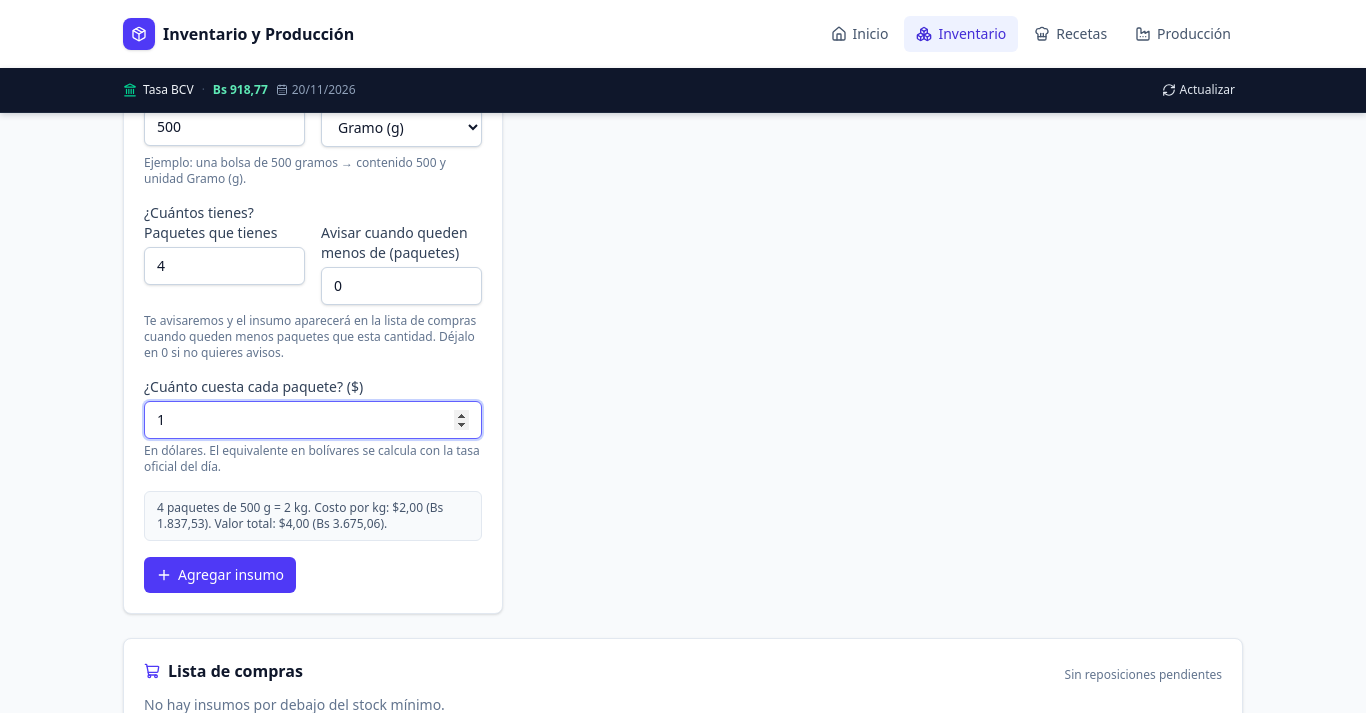
Test: flujo de inventario › crea, edita y elimina insumos por paquete
Earlier steps of the test are not shown.
Later steps or results of the test are not shown.
(page scrolled)
Check: the text "4 paquetes de 500 g = 2 kg" is shown, box [157,499,443,532]
Click the button "Agregar insumo". click: (220, 575)
box: [144,557,296,593]
(page scrolled)
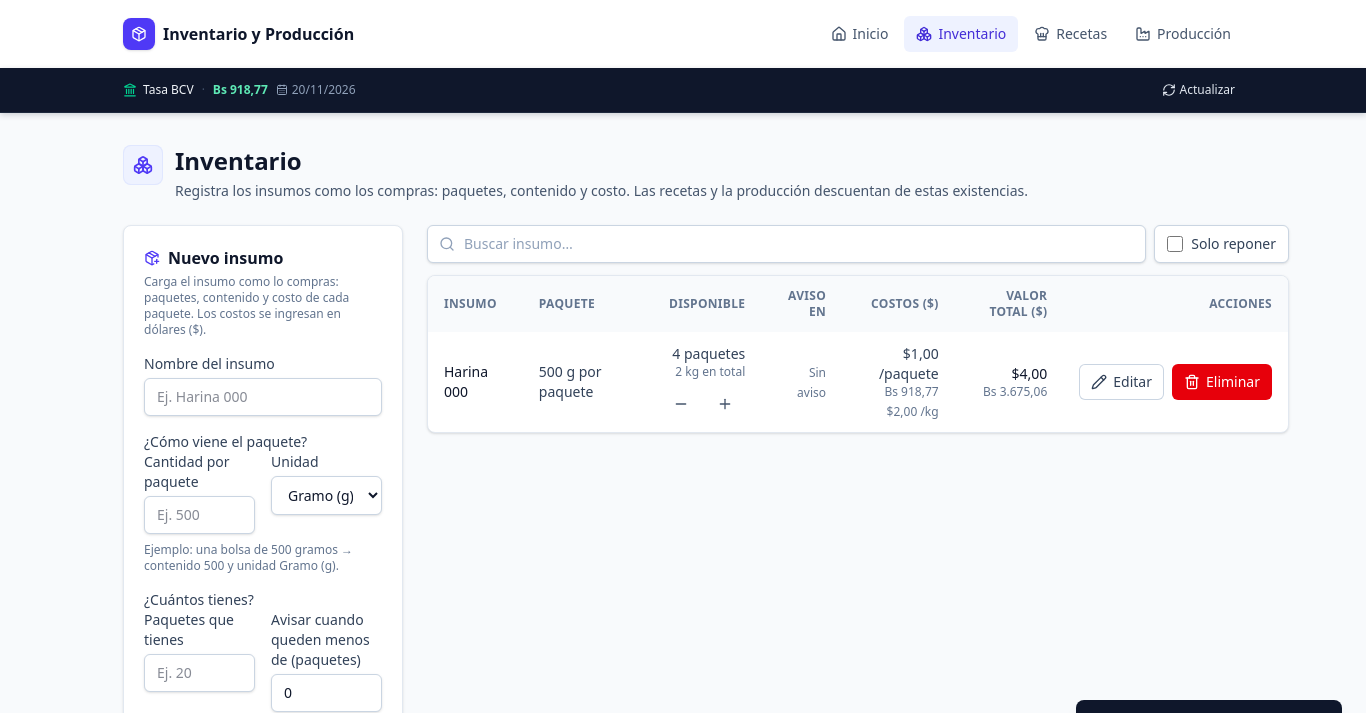
Check: the text "4 paquetes" is shown, box [672,344,745,363]
Check: the text "Harina 000" is shown, box [444,362,488,401]
Check: the text "500 g por paquete" is shown, box [523,332,645,432]
Click the button with aria-label "Editar Harina 000". click: (1122, 382)
box: [1079,364,1164,400]
(page scrolled)
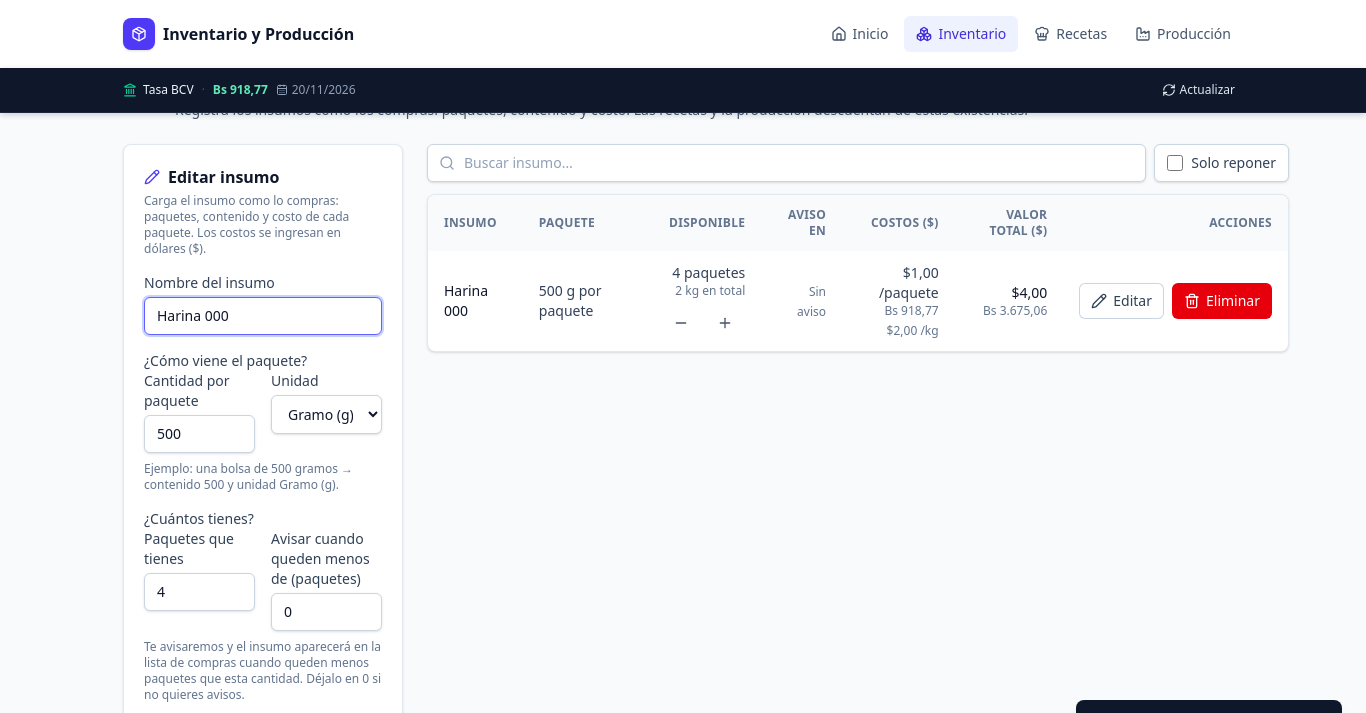
Check: the heading "Editar insumo" is shown, box [144,166,280,188]
Replace the text in the field labelled "Nombre del insumo" with "Harina 0000". click: (263, 316)
box: [144,297,382,335]
(page scrolled)
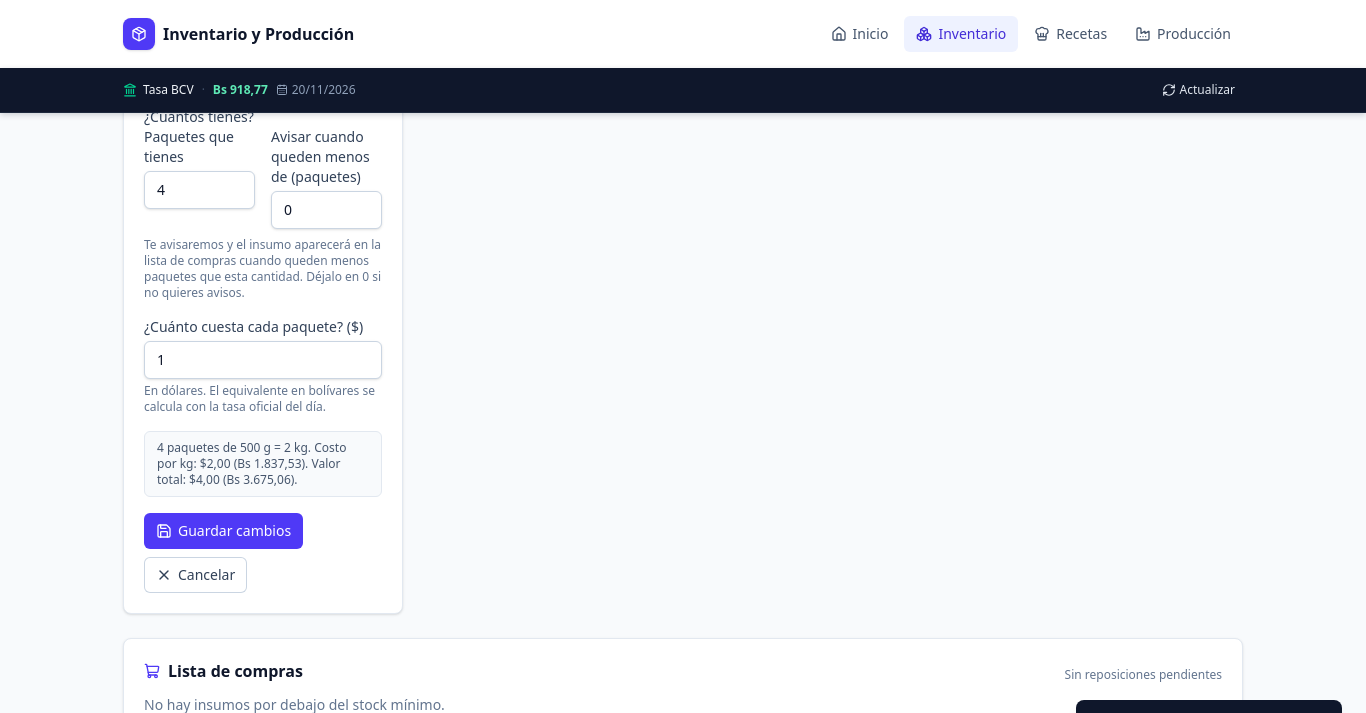
Click the button "Guardar cambios". click: (224, 531)
box: [144,513,303,549]
(page scrolled)
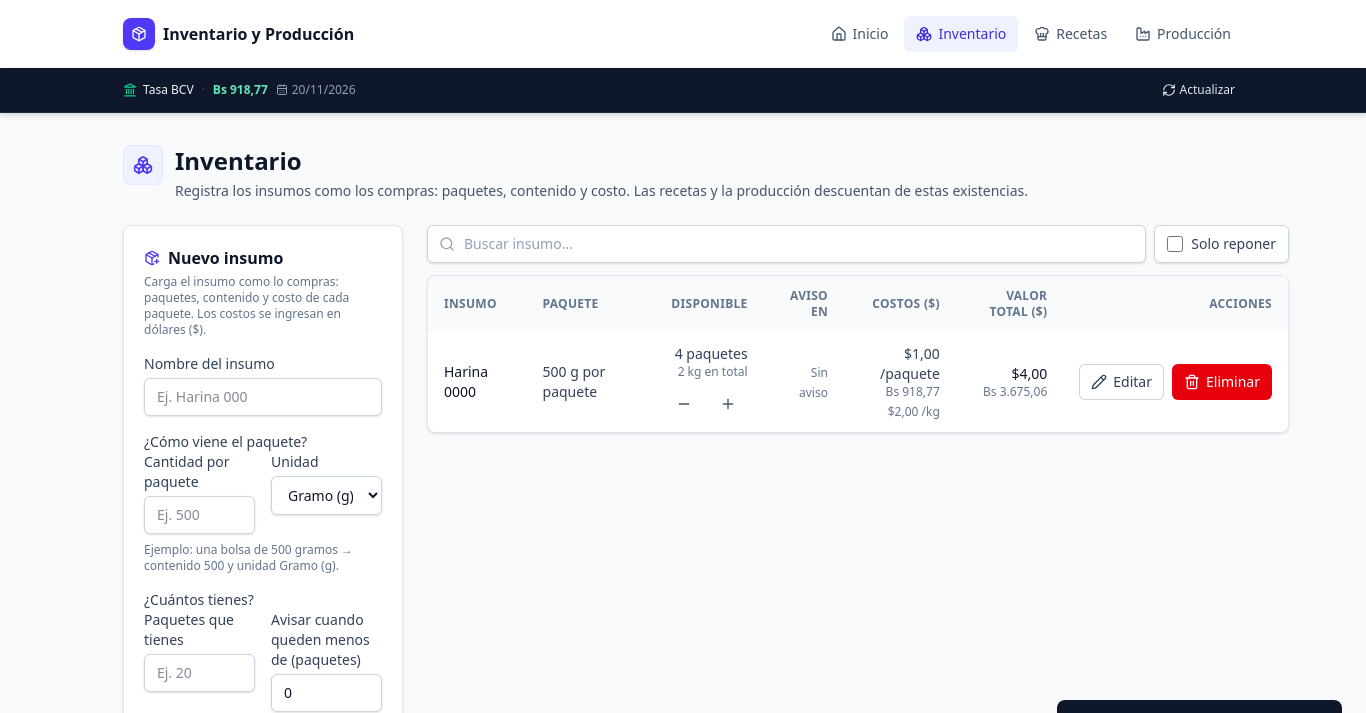
Check: the text "Harina 000" is shown, box [444,362,488,401]
Click the button with aria-label "Eliminar Harina 0000". click: (1222, 382)
box: [1172,364,1272,400]
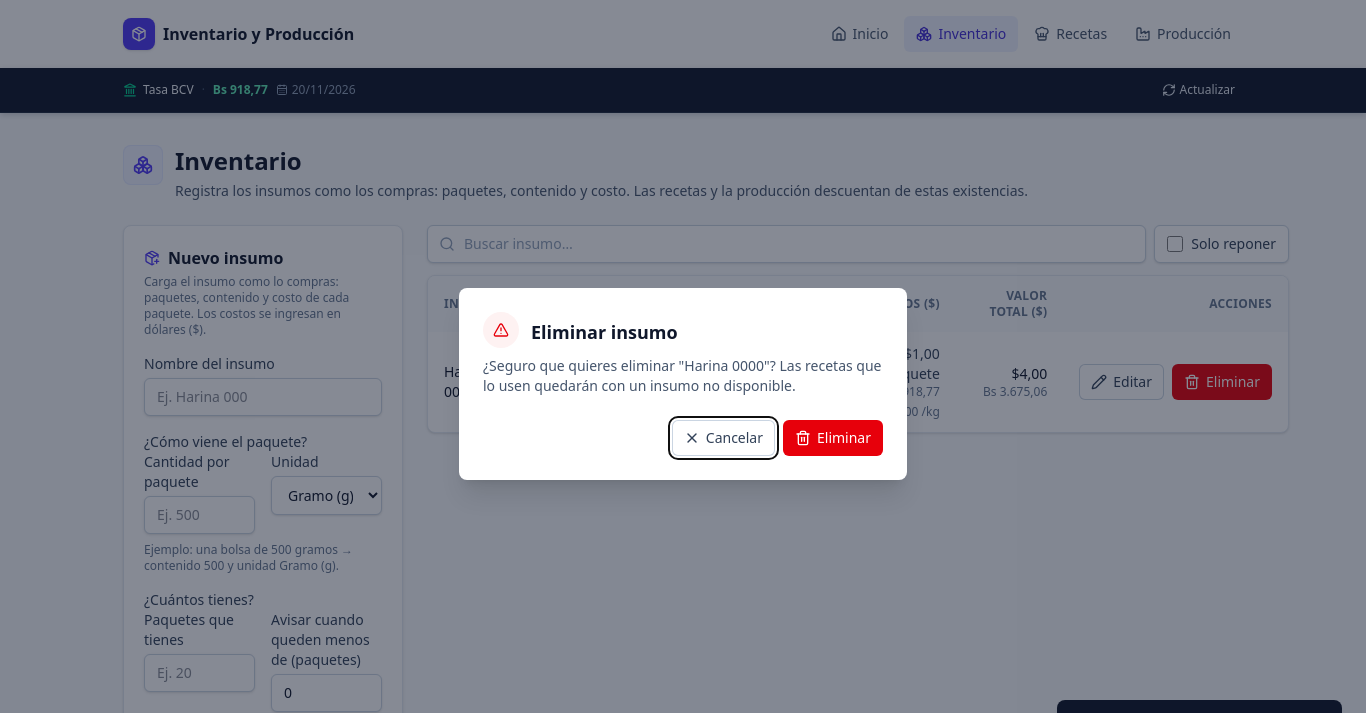
Click the button "Cancelar". click: (723, 438)
box: [672,420,775,456]
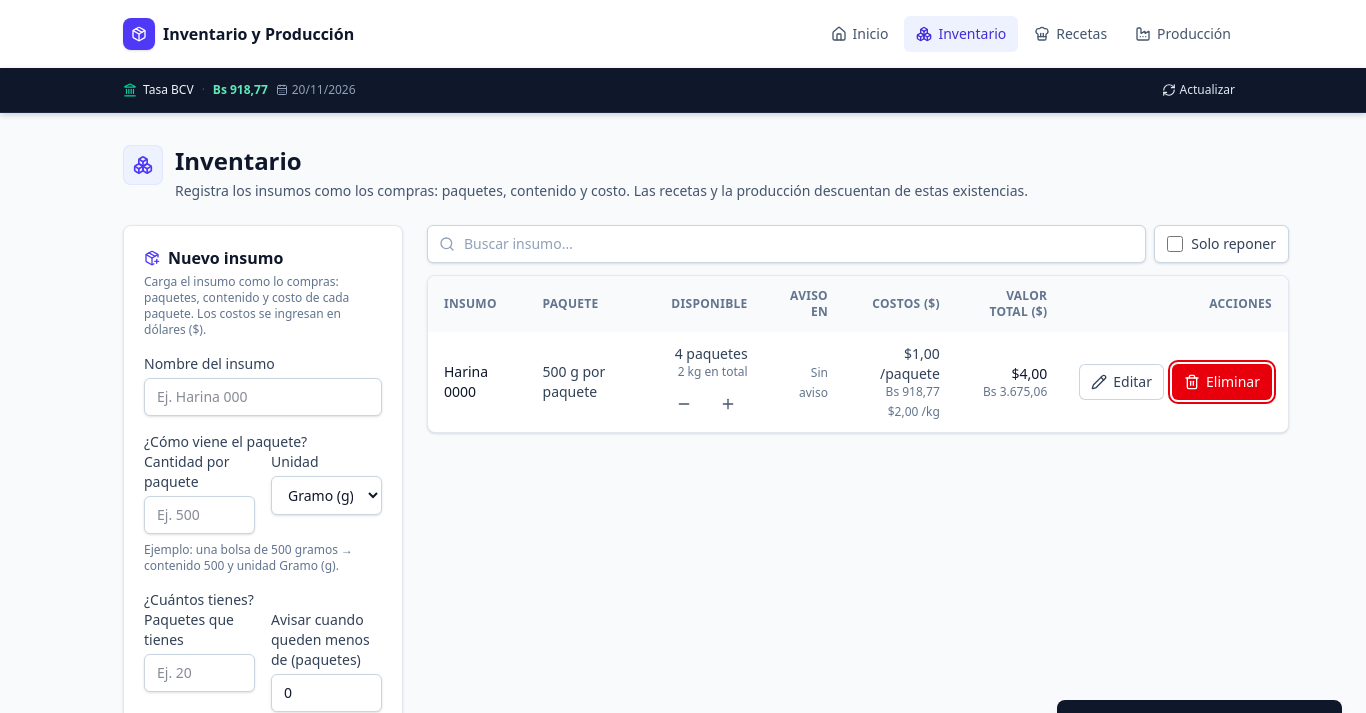
Check: the text "Harina 0000" is shown, box [428,332,526,432]
